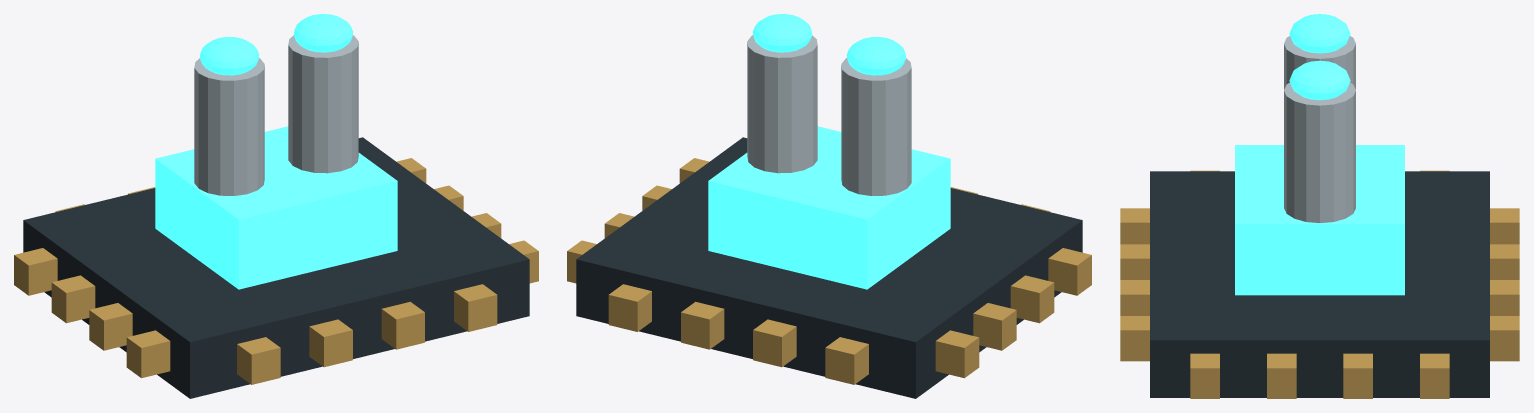
The model's file is plugin-algorithm-attack.glb.
3 renders of one model, left to right at view 1: azimuth 30°, elevation 25°; view 2: azimuth 150°, elevation 25°; view 3: azimuth 270°, elevation 25°, orthographic.
Visible parts, largest first — view 1: plugin circuit substrate, processor block, overdrive capacitor, overdrive capacitor.001, charged cap.001, charged cap, gold edge connector, gold edge connector.009, gold edge connector.011, gold edge connector.008, gold edge connector.010, gold edge connector.002 (+3 smaller); view 2: plugin circuit substrate, processor block, overdrive capacitor, overdrive capacitor.001, charged cap.001, charged cap, gold edge connector.003, gold edge connector.013, gold edge connector.015, gold edge connector.012, gold edge connector.014, gold edge connector.001 (+3 smaller); view 3: plugin circuit substrate, processor block, overdrive capacitor.001, charged cap, charged cap.001, overdrive capacitor, gold edge connector.004, gold edge connector.005, gold edge connector.006, gold edge connector.007, gold edge connector.011, gold edge connector.015 (+6 smaller).
Part boxes in pixels (bbox=[...]): plugin circuit substrate: bbox=[23, 137, 529, 398]; processor block: bbox=[155, 126, 397, 289]; overdrive capacitor: bbox=[194, 58, 264, 195]; overdrive capacitor.001: bbox=[288, 35, 358, 173]; charged cap.001: bbox=[293, 14, 352, 52]; charged cap: bbox=[200, 37, 259, 75]; gold edge connector: bbox=[126, 330, 170, 378]; gold edge connector.009: bbox=[309, 319, 352, 367]; gold edge connector.011: bbox=[454, 284, 497, 331]; gold edge connector.008: bbox=[237, 337, 280, 384]; gold edge connector.010: bbox=[381, 301, 424, 349]; gold edge connector.002: bbox=[51, 275, 95, 323]; plugin circuit substrate: bbox=[576, 137, 1082, 398]; processor block: bbox=[708, 126, 950, 289]; overdrive capacitor: bbox=[841, 58, 911, 195]; overdrive capacitor.001: bbox=[747, 35, 817, 173]; charged cap.001: bbox=[753, 14, 812, 52]; charged cap: bbox=[846, 37, 905, 75]; gold edge connector.003: bbox=[935, 330, 979, 378]; gold edge connector.013: bbox=[753, 319, 796, 367]; gold edge connector.015: bbox=[608, 284, 651, 331]; gold edge connector.012: bbox=[825, 337, 868, 384]; gold edge connector.014: bbox=[681, 301, 724, 349]; gold edge connector.001: bbox=[1010, 275, 1054, 323]; plugin circuit substrate: bbox=[1150, 171, 1489, 397]; processor block: bbox=[1235, 145, 1404, 295]; overdrive capacitor.001: bbox=[1284, 82, 1355, 222]; charged cap: bbox=[1289, 14, 1350, 53]; charged cap.001: bbox=[1289, 60, 1350, 100]; overdrive capacitor: bbox=[1284, 36, 1355, 89]; gold edge connector.004: bbox=[1190, 353, 1219, 398]; gold edge connector.005: bbox=[1267, 353, 1296, 398]; gold edge connector.006: bbox=[1343, 353, 1372, 398]; gold edge connector.007: bbox=[1420, 353, 1449, 398]; gold edge connector.011: bbox=[1120, 316, 1149, 361]; gold edge connector.015: bbox=[1490, 316, 1519, 361].
Bounding box in the file's own units: 1.1 × 0.705 × 0.94.
